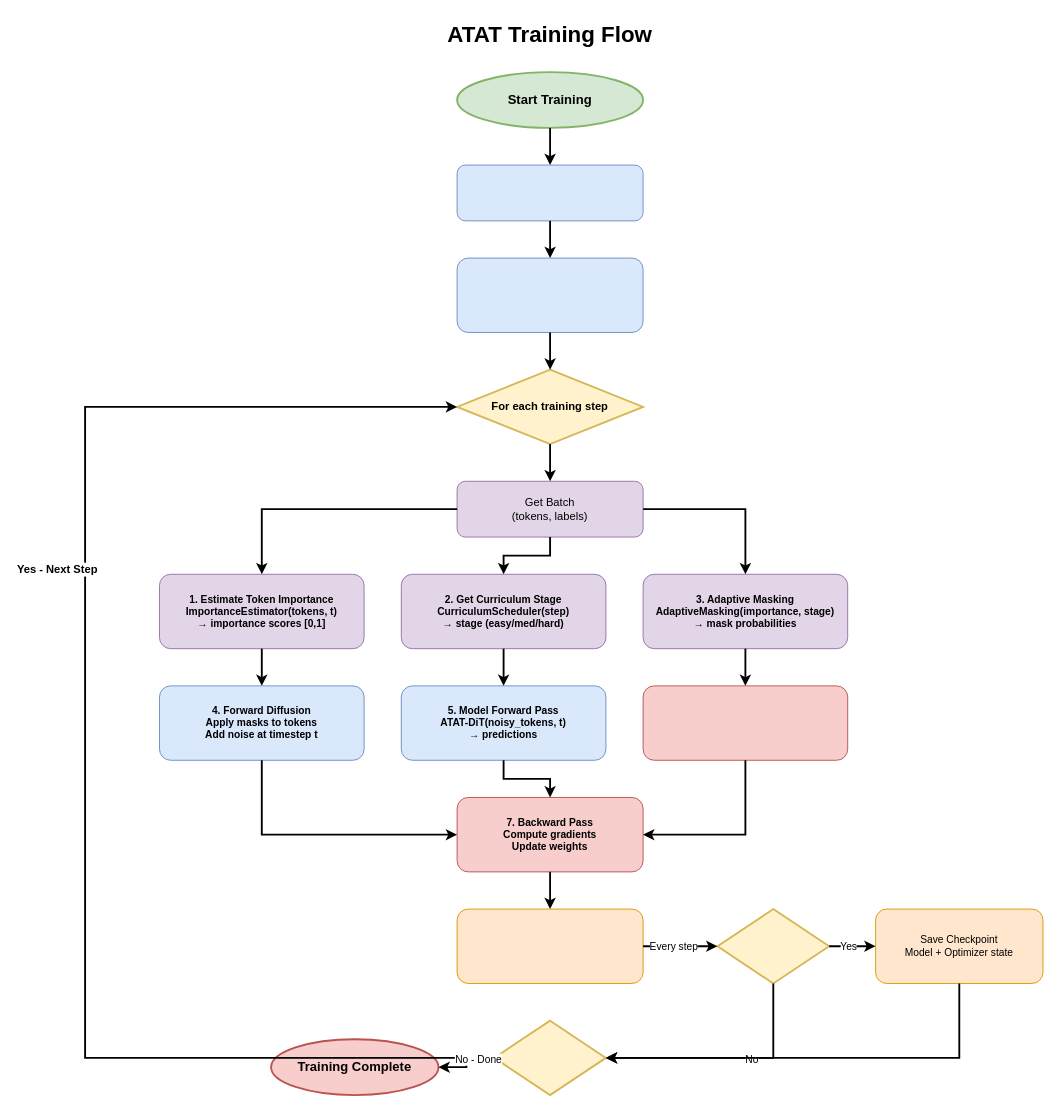
Image size: 1059x1111. Some labels were removed from this diagram. Each missing label, with the centre of its shape:
6. Compute Loss Cross-entropy + Importance loss Weighted by curriculum: [745,722]
8. Log Metrics Loss, perplexity, importance stats → WandB: [549,945]
Checkpoint step?: [773,946]
Initialize Models - Base DiT - Importance Estimator: [549,294]
Load Dataset (OpenWebText from scratch): [549,192]
More steps?: [549,1057]
